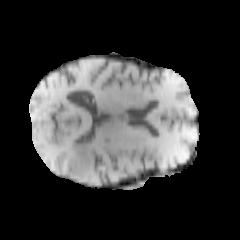glioma: (56, 139, 132, 185)
